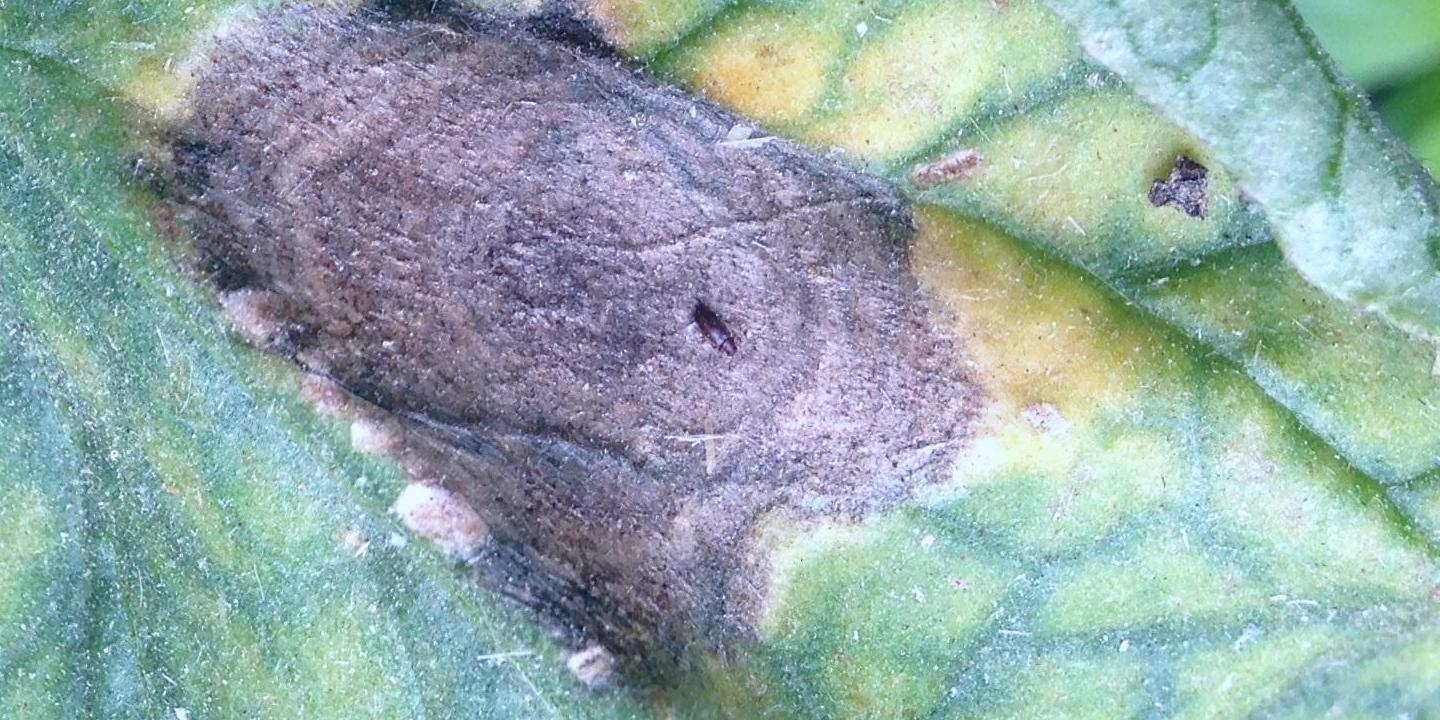Tomato Early blight leaf: (0, 0, 1127, 720)
